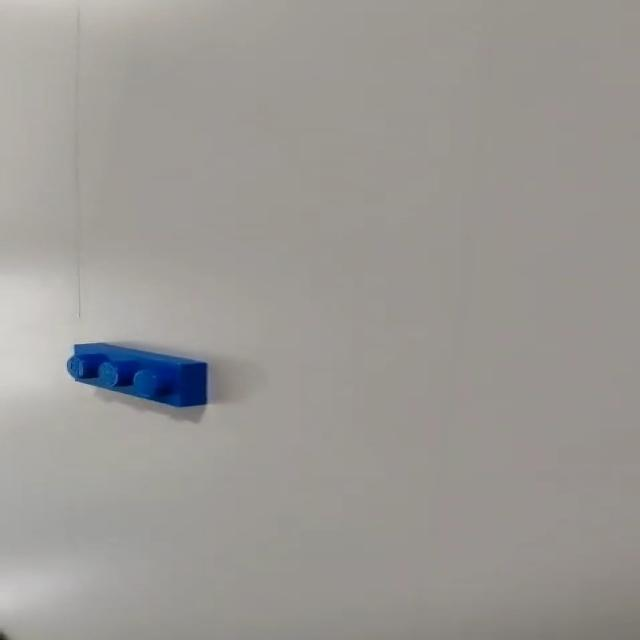C3x1x0: (67, 342, 208, 408)
